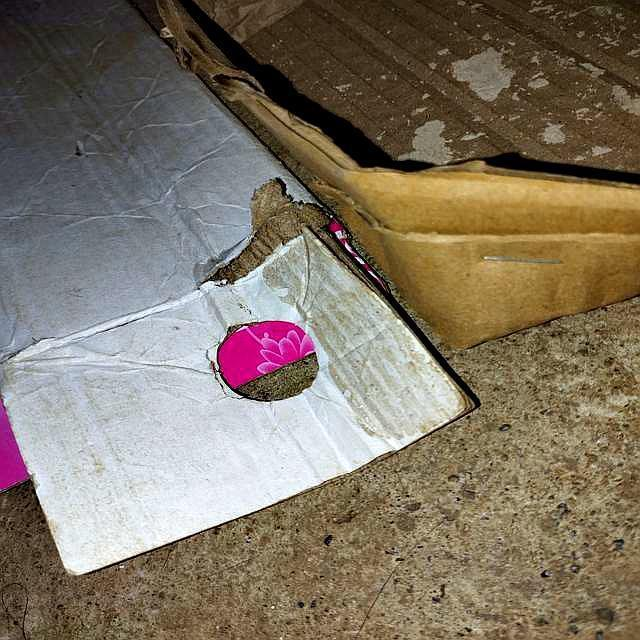Biodegradable: (1, 1, 640, 602)
